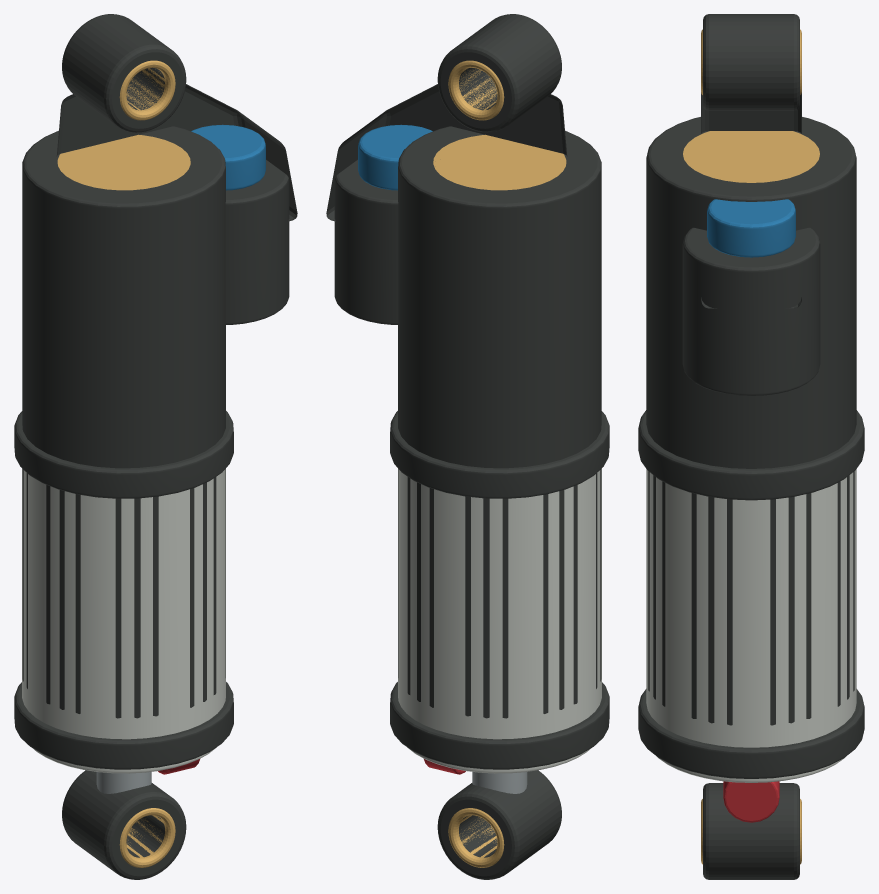
File: fox-float-x2-factory-my26--b034c357.glb
The picture shows the model from 3 angles, left to right: view 1: azimuth 30°, elevation 25°; view 2: azimuth 150°, elevation 25°; view 3: azimuth 270°, elevation 25°; orthographic projection. The views are drawn at different scales.
Parts seen in each view (by area): view 1: fox-float-x2-factory-my26--b034c357__link, fox-float-x2-factory-my26--b034c357__frame, fox-float-x2-factory-my26--b034c357__stanchions, fox-float-x2-factory-my26--b034c357__adjuster, fox-float-x2-factory-my26--b034c357__bolts; view 2: fox-float-x2-factory-my26--b034c357__link, fox-float-x2-factory-my26--b034c357__frame, fox-float-x2-factory-my26--b034c357__stanchions, fox-float-x2-factory-my26--b034c357__adjuster, fox-float-x2-factory-my26--b034c357__bolts; view 3: fox-float-x2-factory-my26--b034c357__link, fox-float-x2-factory-my26--b034c357__frame, fox-float-x2-factory-my26--b034c357__stanchions, fox-float-x2-factory-my26--b034c357__adjuster, fox-float-x2-factory-my26--b034c357__rebound.
Part boxes in pixels (box(x1,y1,x2,y2)): fox-float-x2-factory-my26--b034c357__link: box(14, 14, 297, 879); fox-float-x2-factory-my26--b034c357__frame: box(22, 468, 225, 773); fox-float-x2-factory-my26--b034c357__stanchions: box(57, 60, 190, 867); fox-float-x2-factory-my26--b034c357__adjuster: box(191, 124, 265, 190); fox-float-x2-factory-my26--b034c357__bolts: box(96, 772, 151, 793); fox-float-x2-factory-my26--b034c357__link: box(326, 14, 609, 879); fox-float-x2-factory-my26--b034c357__frame: box(398, 468, 601, 773); fox-float-x2-factory-my26--b034c357__stanchions: box(433, 60, 566, 867); fox-float-x2-factory-my26--b034c357__adjuster: box(358, 124, 432, 190); fox-float-x2-factory-my26--b034c357__bolts: box(472, 772, 527, 793); fox-float-x2-factory-my26--b034c357__link: box(638, 14, 864, 879); fox-float-x2-factory-my26--b034c357__frame: box(646, 469, 856, 782); fox-float-x2-factory-my26--b034c357__stanchions: box(683, 29, 819, 864); fox-float-x2-factory-my26--b034c357__adjuster: box(707, 199, 795, 257); fox-float-x2-factory-my26--b034c357__rebound: box(723, 781, 779, 822).
Size of the model in its own units: 0.074 by 0.234 by 0.056.
